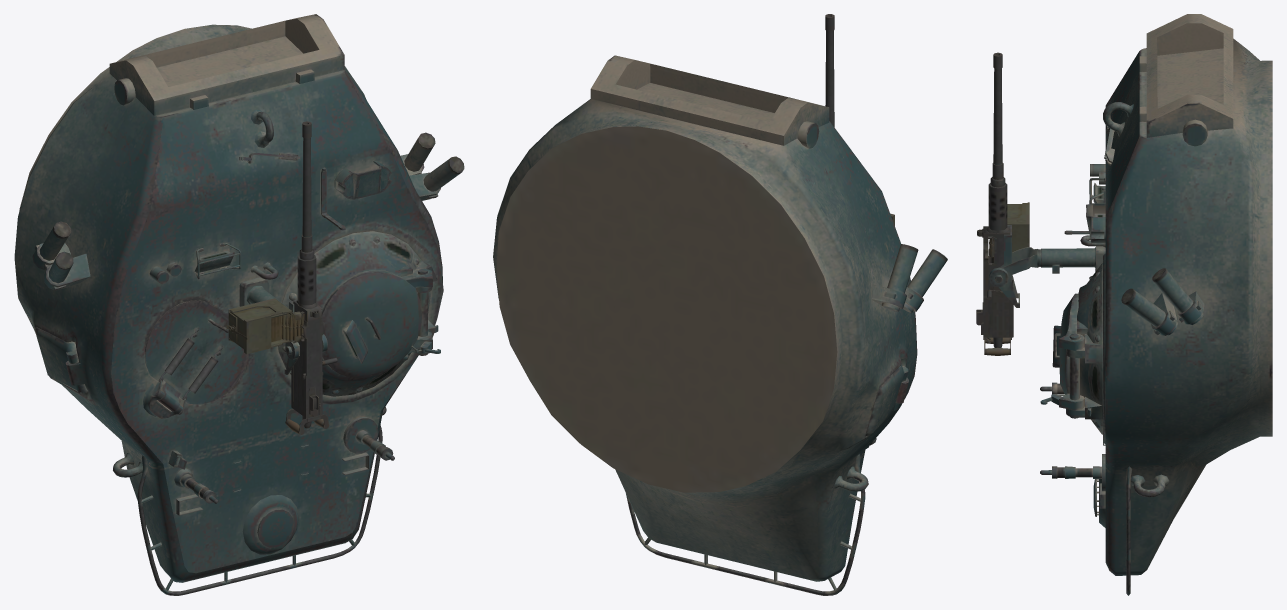
The model's file is Turret_01.glb.
3 views of the same model, side by side, from view 1: azimuth 30°, elevation 25°; view 2: azimuth 150°, elevation 25°; view 3: azimuth 270°, elevation 25° (orthographic). The views are drawn at different scales.
Parts seen in each view (by area): view 1: set_0_group_0; view 2: set_0_group_0; view 3: set_0_group_0.
Boxes of the visible parts, x1,y1,x2,y2 form: set_0_group_0: (14, 14, 464, 595); set_0_group_0: (493, 14, 947, 595); set_0_group_0: (976, 14, 1272, 595).
Size of the model in its own units: 2.32 by 2.78 by 1.51.
1 material, 1 textured.
